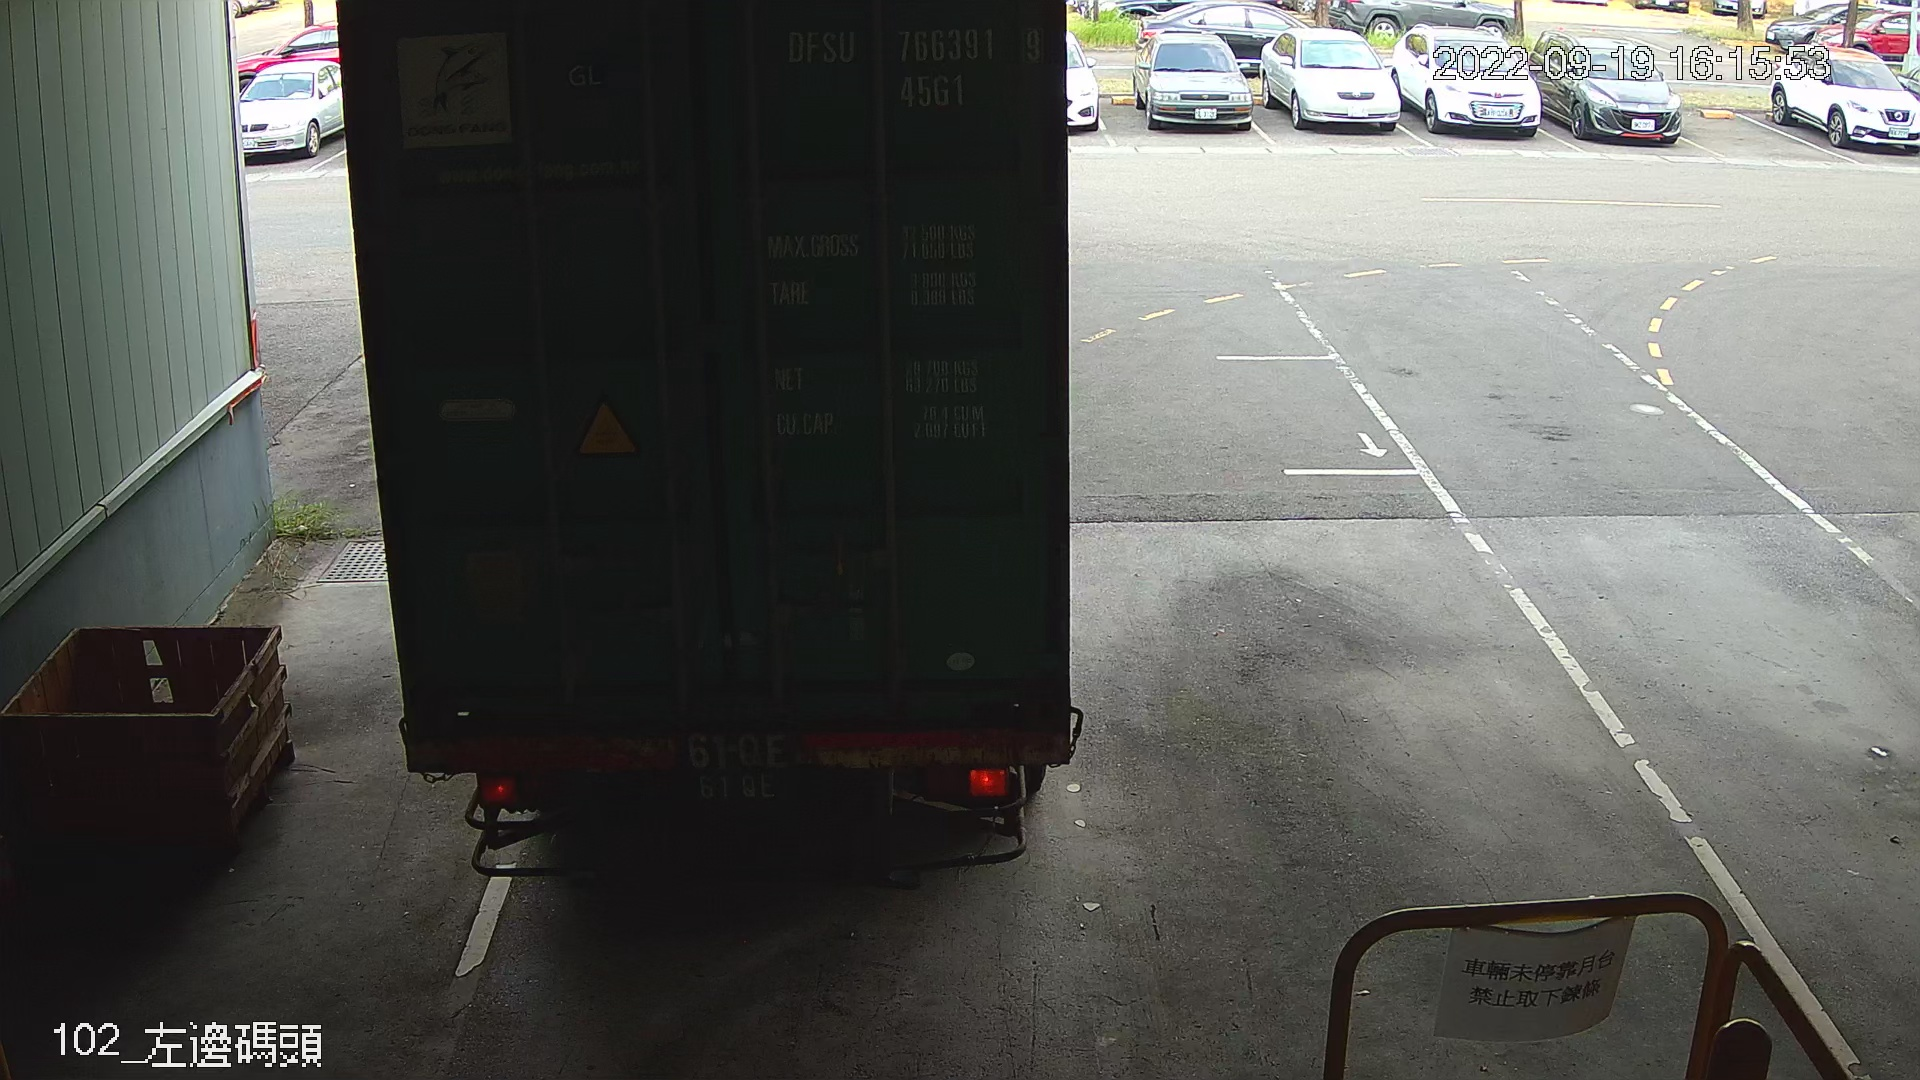container: (771, 15, 1054, 119)
